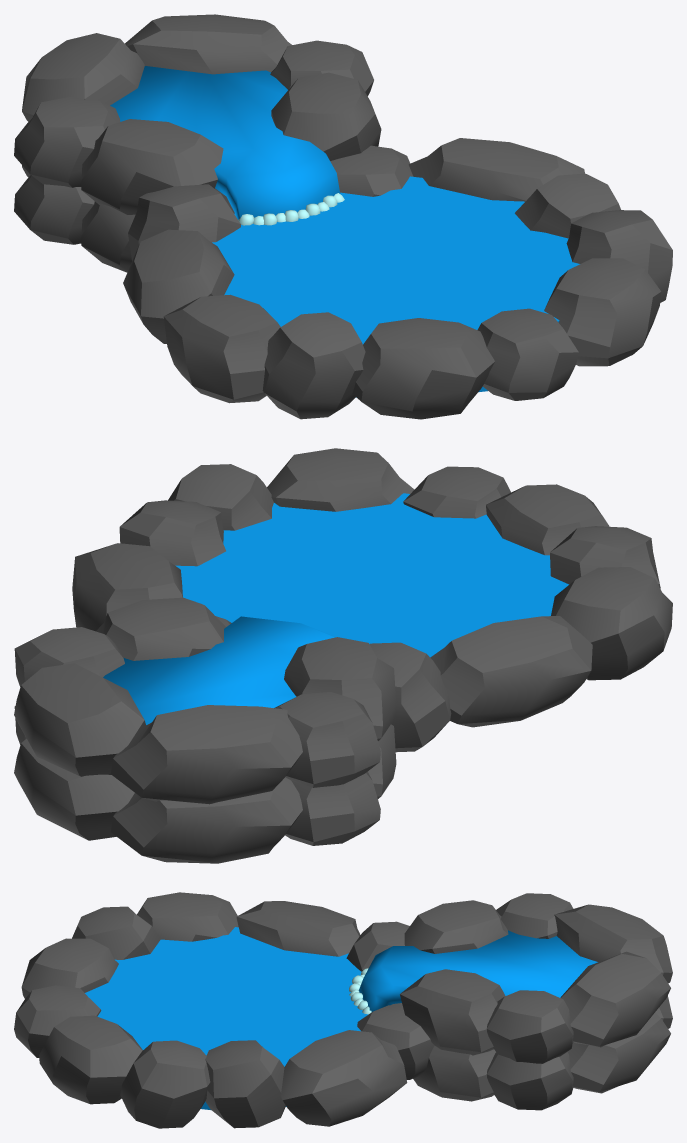
File: Pond.fbx
The picture shows the model from 3 angles, top to bottom: view 1: azimuth 30°, elevation 25°; view 2: azimuth 150°, elevation 25°; view 3: azimuth 270°, elevation 25°; orthographic projection. The views are drawn at different scales.
Parts seen in each view (by area): view 1: Pond, Water; view 2: Pond, Water; view 3: Pond, Water.
Part boxes in pixels (x1=…): Pond: x1=14, y1=14, x2=672, y2=419; Water: x1=110, y1=66, x2=579, y2=397; Pond: x1=14, y1=448, x2=672, y2=863; Water: x1=103, y1=493, x2=568, y2=724; Pond: x1=14, y1=892, x2=672, y2=1128; Water: x1=85, y1=927, x2=597, y2=1109.
Size of the model in its own units: 533 by 148 by 772.
